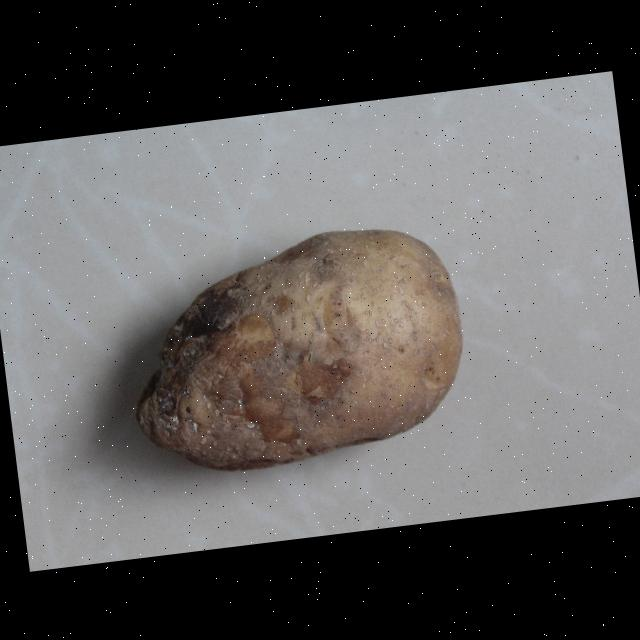Diseased-fungal potato: (108, 212, 474, 486)
